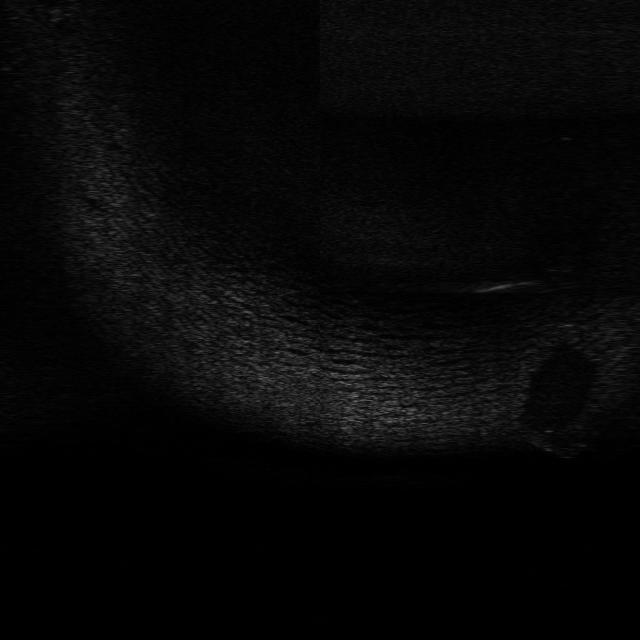cube: (523, 414, 598, 461)
